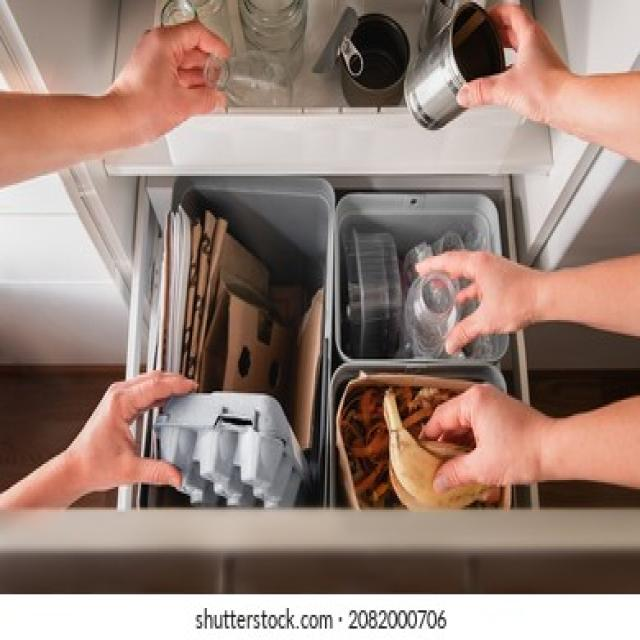cardboard: (142, 391, 316, 496)
glass: (200, 57, 314, 114)
metal: (400, 2, 499, 137)
paper: (194, 217, 322, 386)
plastic: (351, 233, 468, 343)
